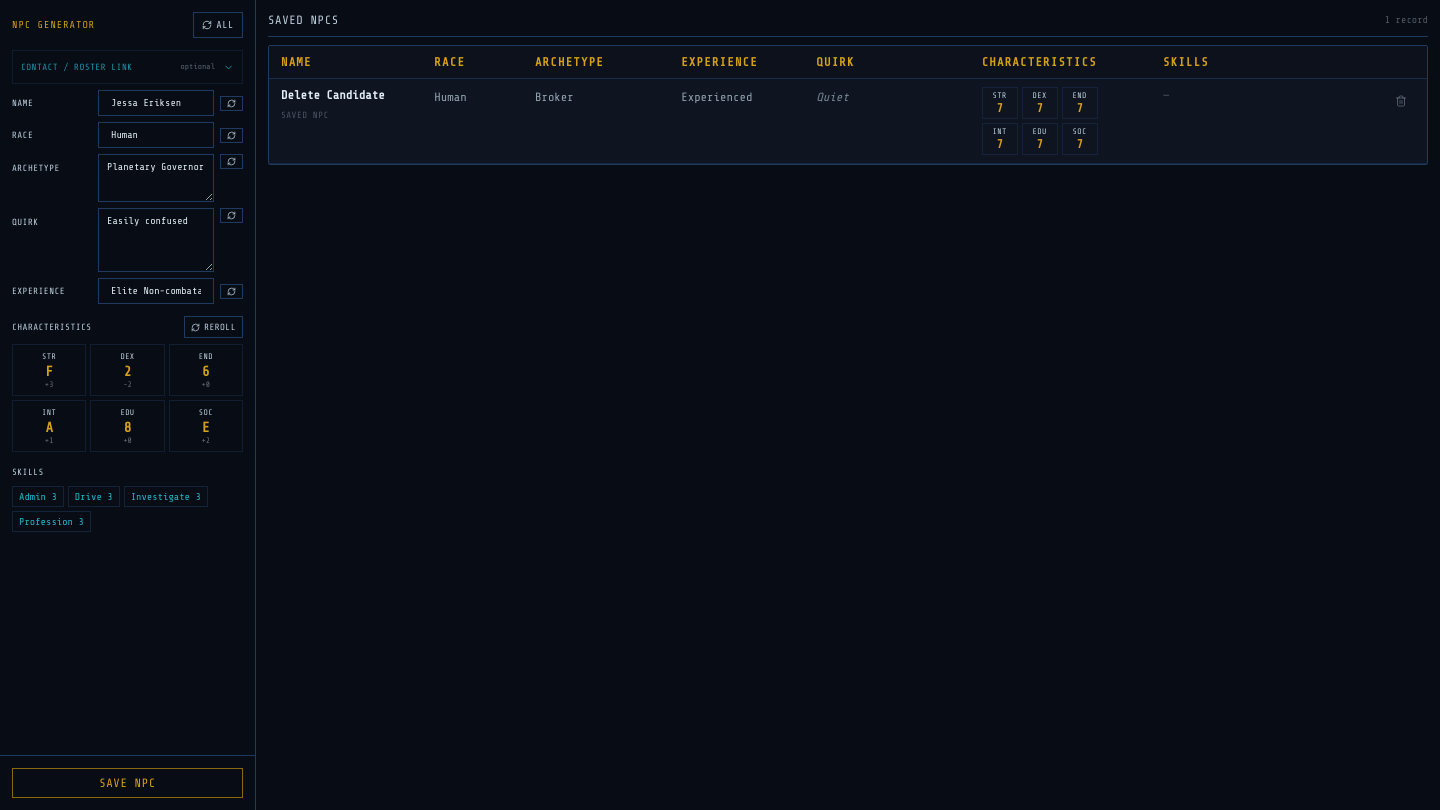
Scenario: NPCGenerator › requires confirmation before deleting a saved NPC
Expected: the text "Delete Candidate" is shown, x1=281 y1=88 x2=385 y2=102
Click the button named "Delete Delete Candidate".
click(1401, 101)  # box x1=1387 y1=87 x2=1415 y2=115
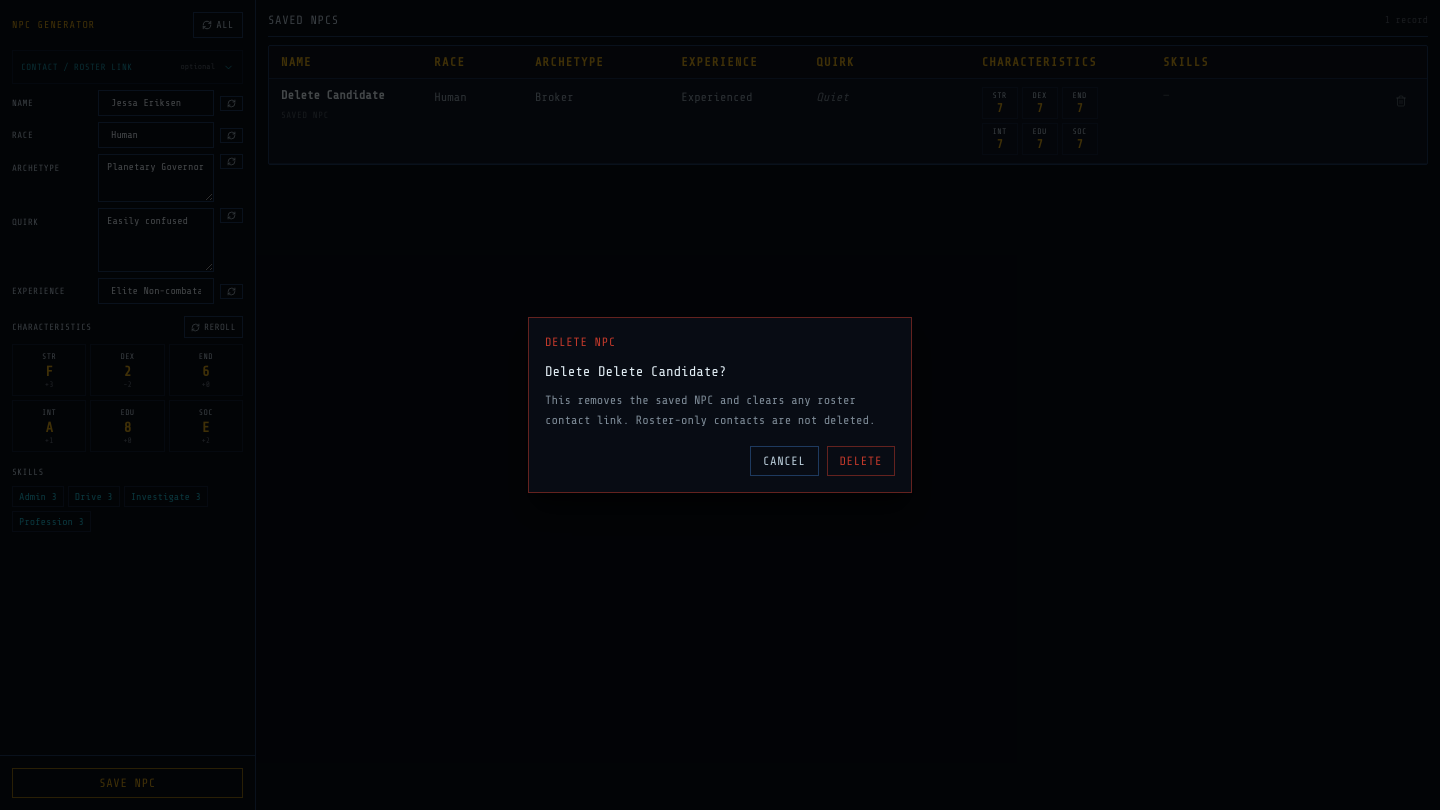
Expected: the dialog "DELETE NPC" is shown, x1=528 y1=317 x2=912 y2=493
Expected: the text "Delete Delete Candidate?" is shown, x1=545 y1=364 x2=726 y2=379
Click the button "CANCEL".
click(784, 461)  # box x1=750 y1=446 x2=818 y2=476
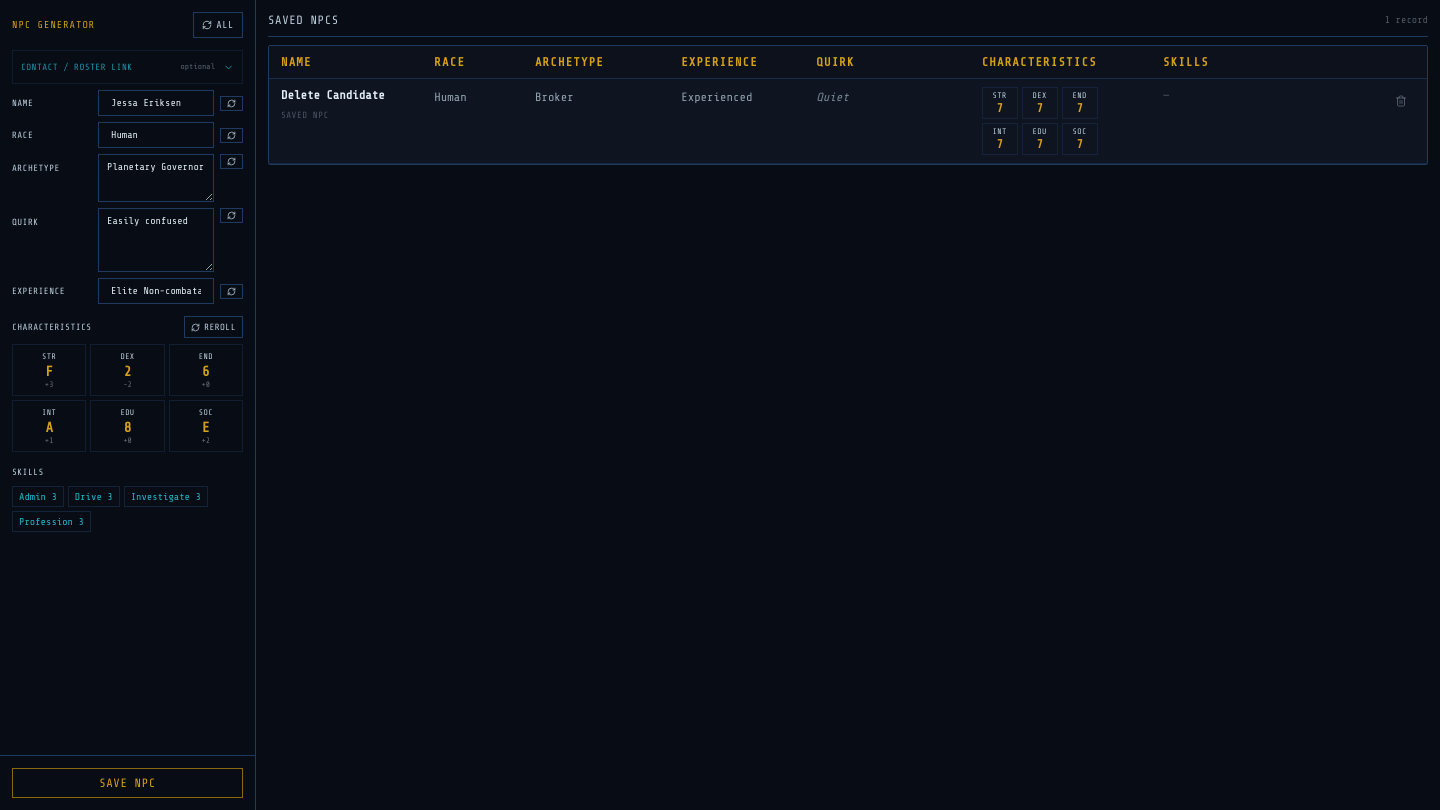
Expected: the text "Delete Candidate" is shown, x1=281 y1=88 x2=385 y2=102
Expected: the text "DELETE NPC" is gone
Click the button named "Delete Delete Candidate".
click(1401, 101)  # box x1=1387 y1=87 x2=1415 y2=115
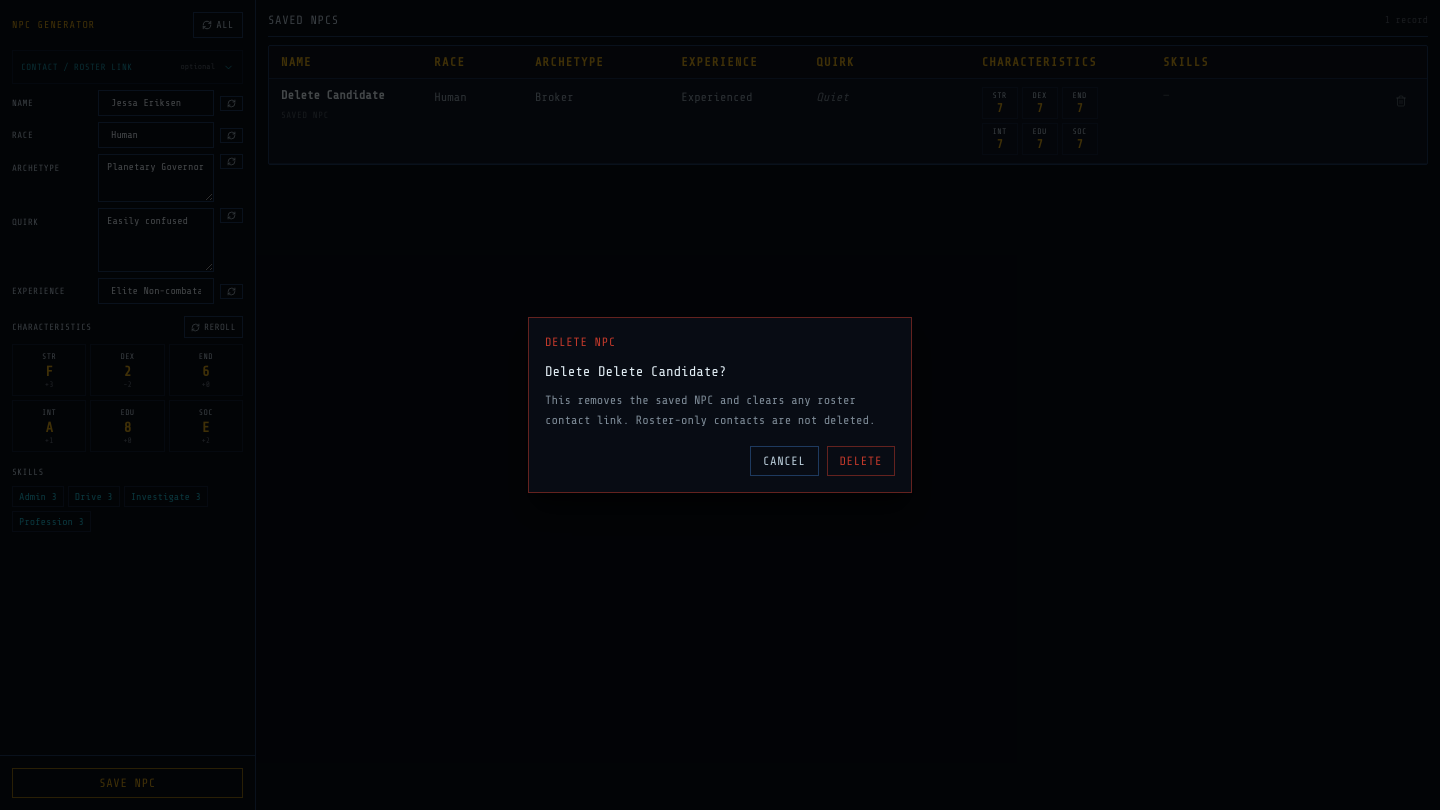
Click the button "DELETE".
click(861, 461)  # box x1=826 y1=446 x2=895 y2=476
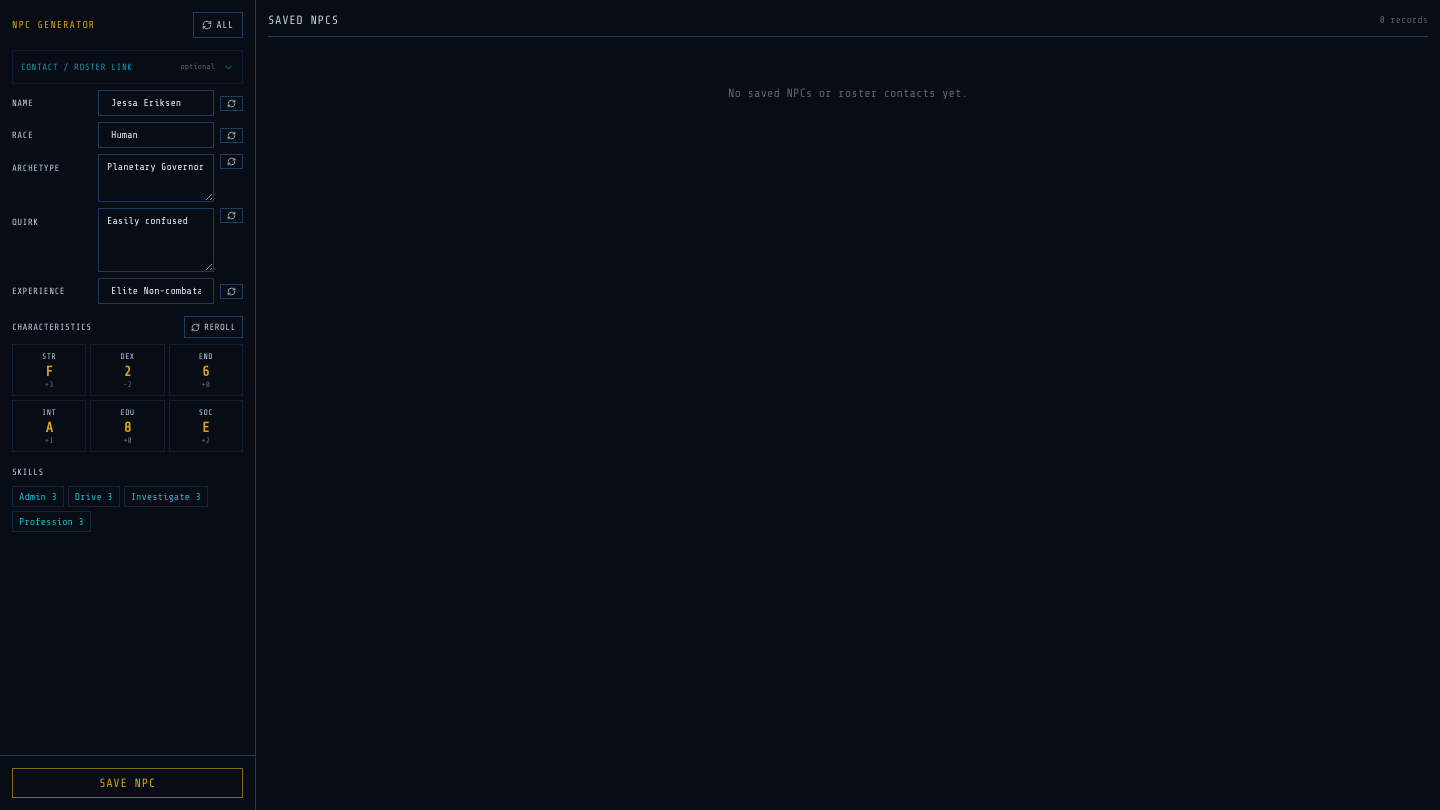
Expected: the text "Delete Candidate" is gone
